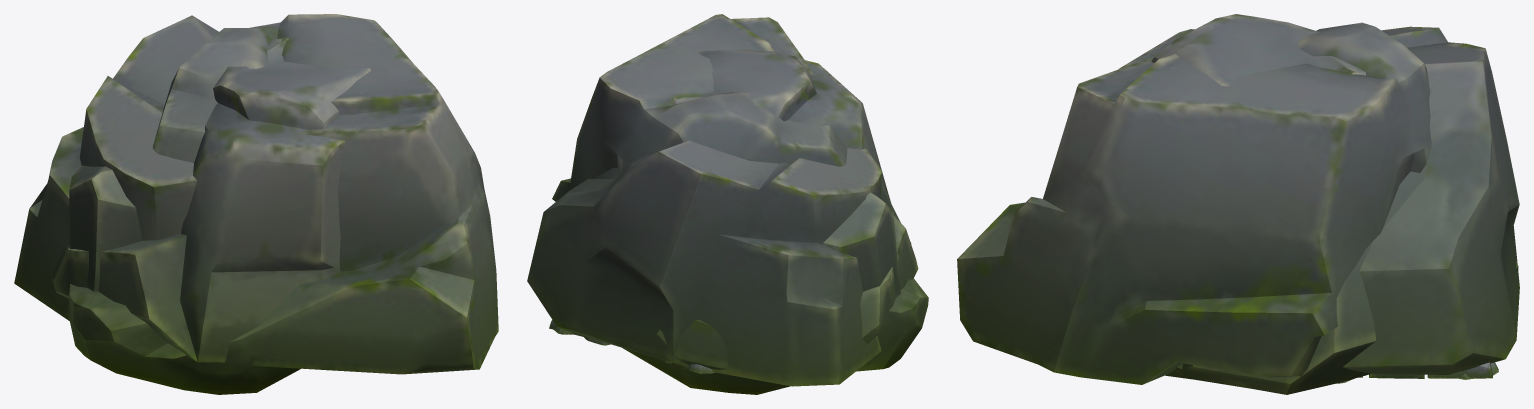
The model's file is rocks.glb.
3 renders of one model, left to right at view 1: azimuth 30°, elevation 25°; view 2: azimuth 150°, elevation 25°; view 3: azimuth 270°, elevation 25°, orthographic. The views are drawn at different scales.
Parts seen in each view (by area): view 1: Rock_Medium_3, Rock_Medium_1, Rock_Medium_2; view 2: Rock_Medium_2, Rock_Medium_3, Rock_Medium_1, RockPath_Round_Wide; view 3: Rock_Medium_3, Rock_Medium_2, Rock_Medium_1, RockPath_Square_Wide.
Boxes of the visible parts, x1,y1,x2,y2 form: Rock_Medium_3: (69,14,498,394); Rock_Medium_1: (52,38,370,362); Rock_Medium_2: (14,15,218,320); Rock_Medium_2: (527,140,882,386); Rock_Medium_3: (552,14,928,371); Rock_Medium_1: (573,50,918,394); RockPath_Round_Wide: (554,326,714,373); Rock_Medium_3: (957,22,1431,384); Rock_Medium_2: (1343,26,1519,374); Rock_Medium_1: (1118,14,1518,394); RockPath_Square_Wide: (1359,362,1492,378).
Bounding box in the file's own units: 3.42 × 2.32 × 3.74.
Materials: 2 (2 with a texture image).
